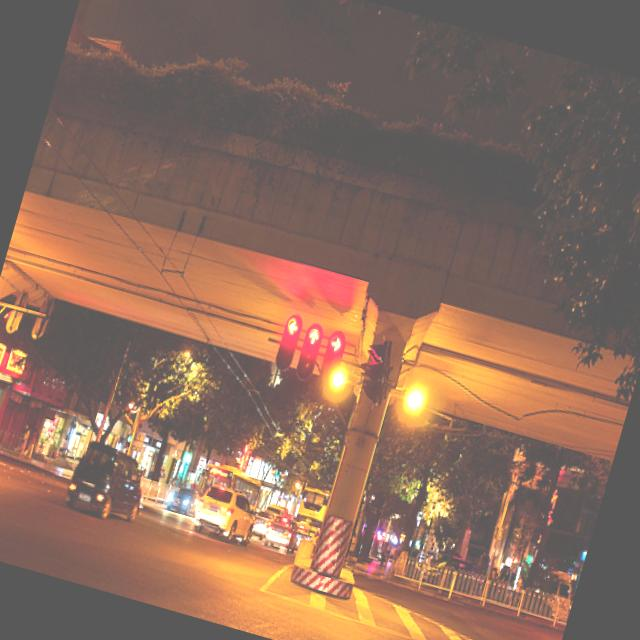Vehicle: (62, 437, 156, 529), (187, 478, 263, 550), (263, 514, 300, 549), (165, 484, 198, 517), (249, 508, 276, 544), (291, 526, 312, 552)
